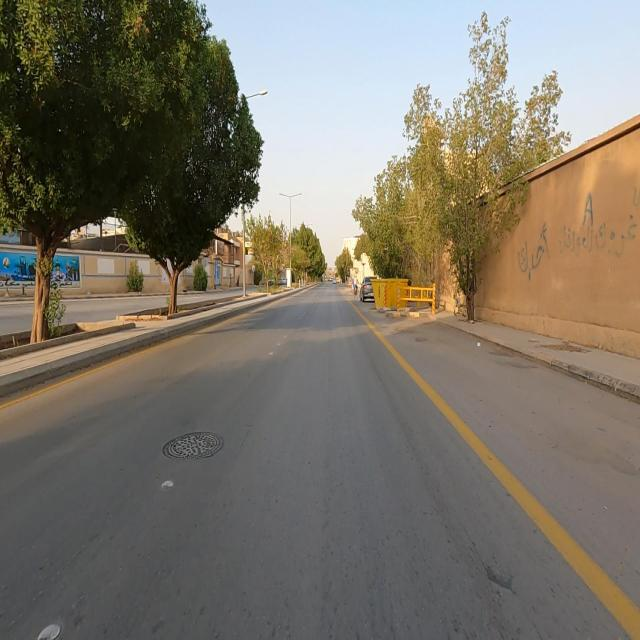Graffiti: (520, 214, 638, 283), (583, 191, 596, 226)
